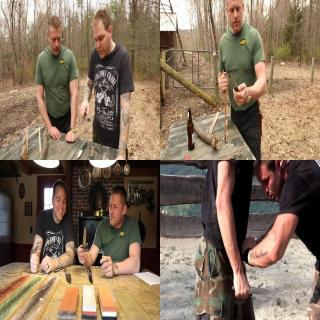knife: (230, 280, 272, 300), (230, 69, 246, 99), (77, 223, 87, 258), (78, 103, 94, 124)
